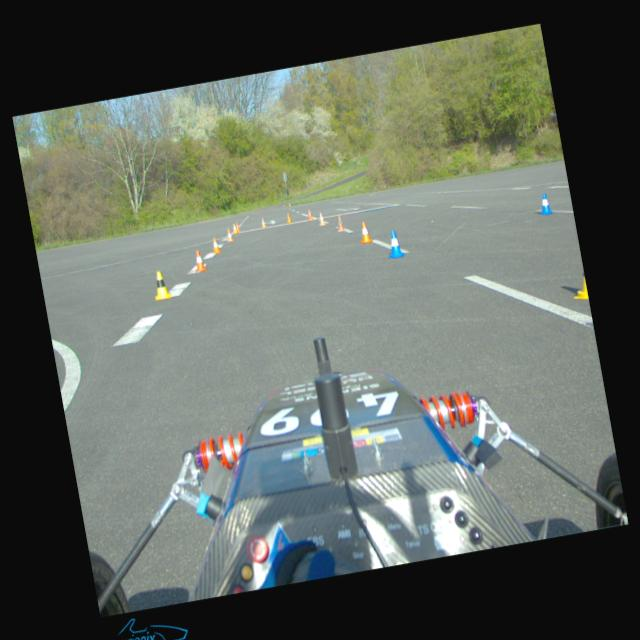blue_cone: (382, 228, 407, 259), (536, 192, 554, 214)
orange_cone: (192, 250, 207, 272), (358, 220, 372, 243), (334, 214, 346, 232), (210, 236, 222, 253), (317, 211, 326, 225), (225, 228, 234, 241), (306, 209, 314, 220), (231, 222, 238, 234), (285, 212, 292, 222), (260, 217, 266, 227), (236, 222, 240, 231)
yellow_cone: (150, 270, 172, 300), (568, 270, 588, 302)
